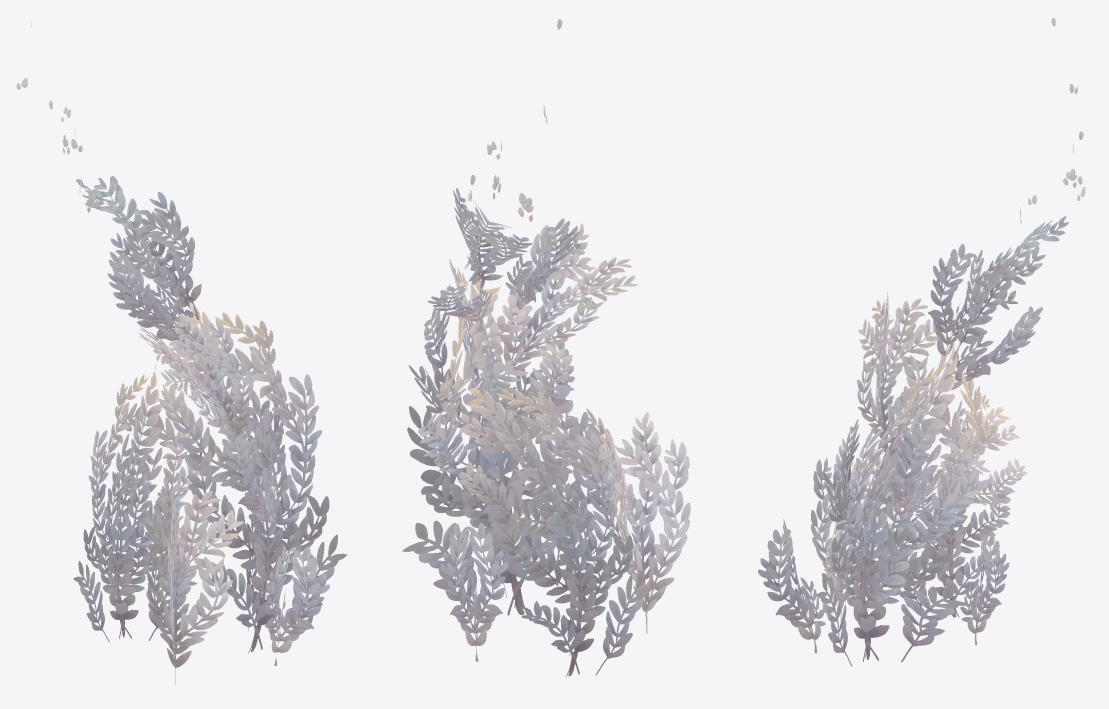
The picture shows the model from 3 angles, left to right: view 1: azimuth 30°, elevation 25°; view 2: azimuth 150°, elevation 25°; view 3: azimuth 270°, elevation 25°; orthographic projection. The views are drawn at different scales.
Bounding box in the file's own units: 3.52 × 8.97 × 4.94.
1 material, 1 textured.
